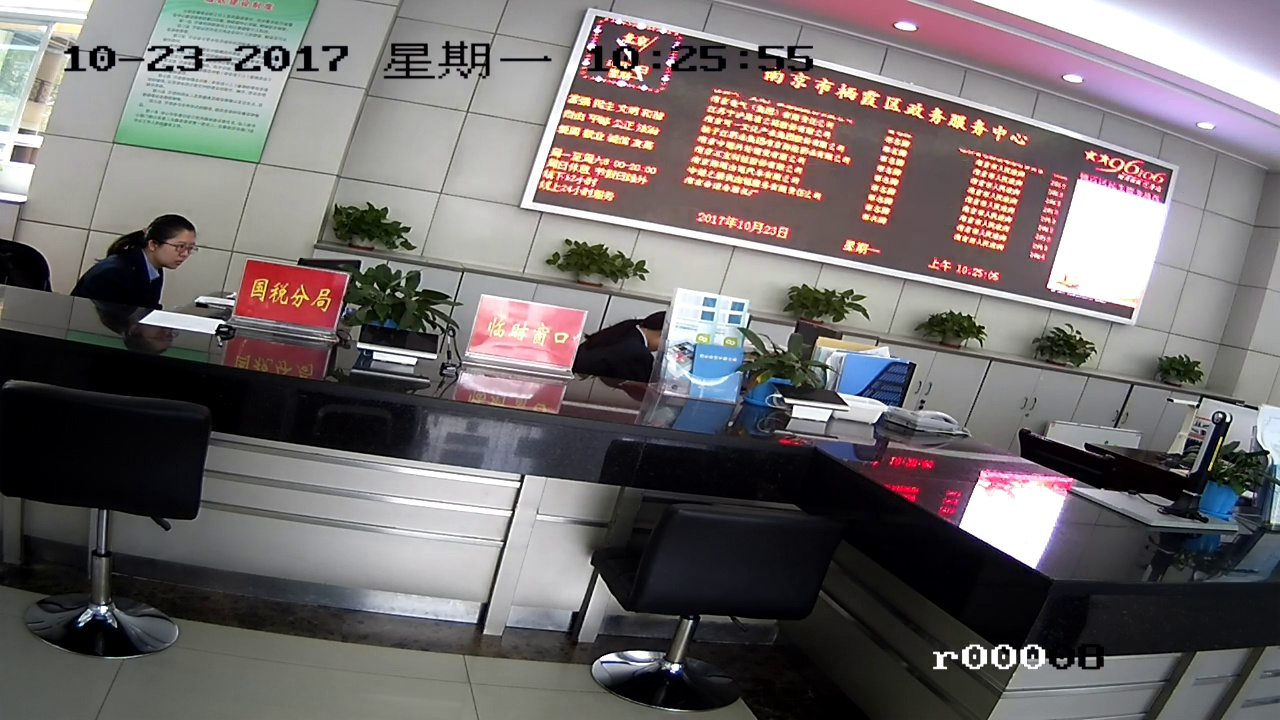billboard: (153, 6, 256, 163), (240, 268, 339, 346), (483, 306, 573, 381)
chair: (7, 381, 216, 657), (591, 497, 844, 713)
monitor: (588, 30, 1084, 297)
person: (80, 212, 192, 320), (571, 299, 669, 384)
pot: (356, 269, 433, 341), (550, 240, 639, 288), (786, 276, 865, 327), (335, 202, 396, 254), (919, 309, 989, 351), (1041, 327, 1101, 374), (1160, 358, 1207, 392)
